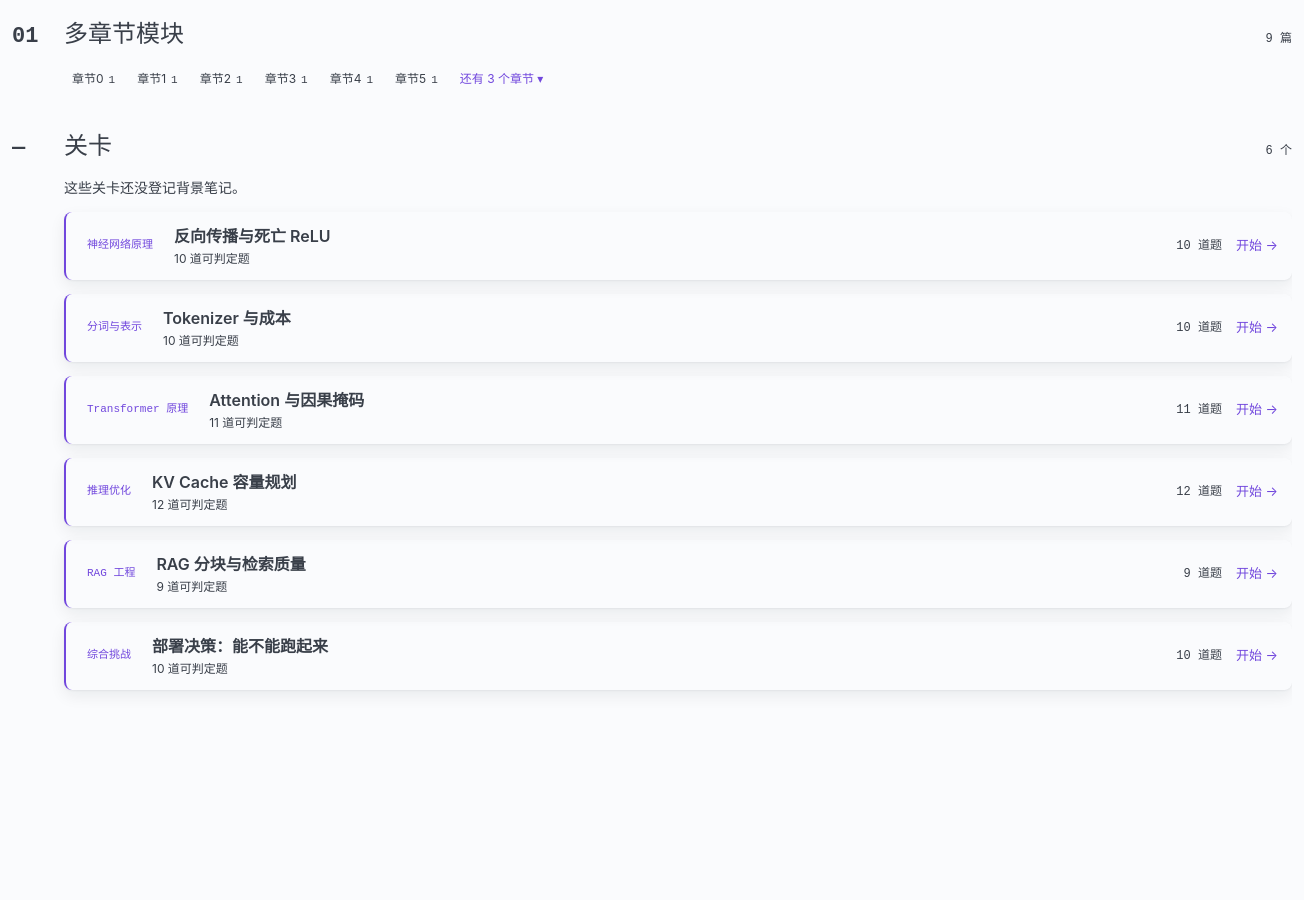
章节 chip 折叠 › 点开之后全部章节可见，按钮变成收起
What coordinates should you click on to do the following:
click the button "还有 3 个章节 ▾"
I would click on:
 (502, 79)
Its box is [452, 67, 551, 91].
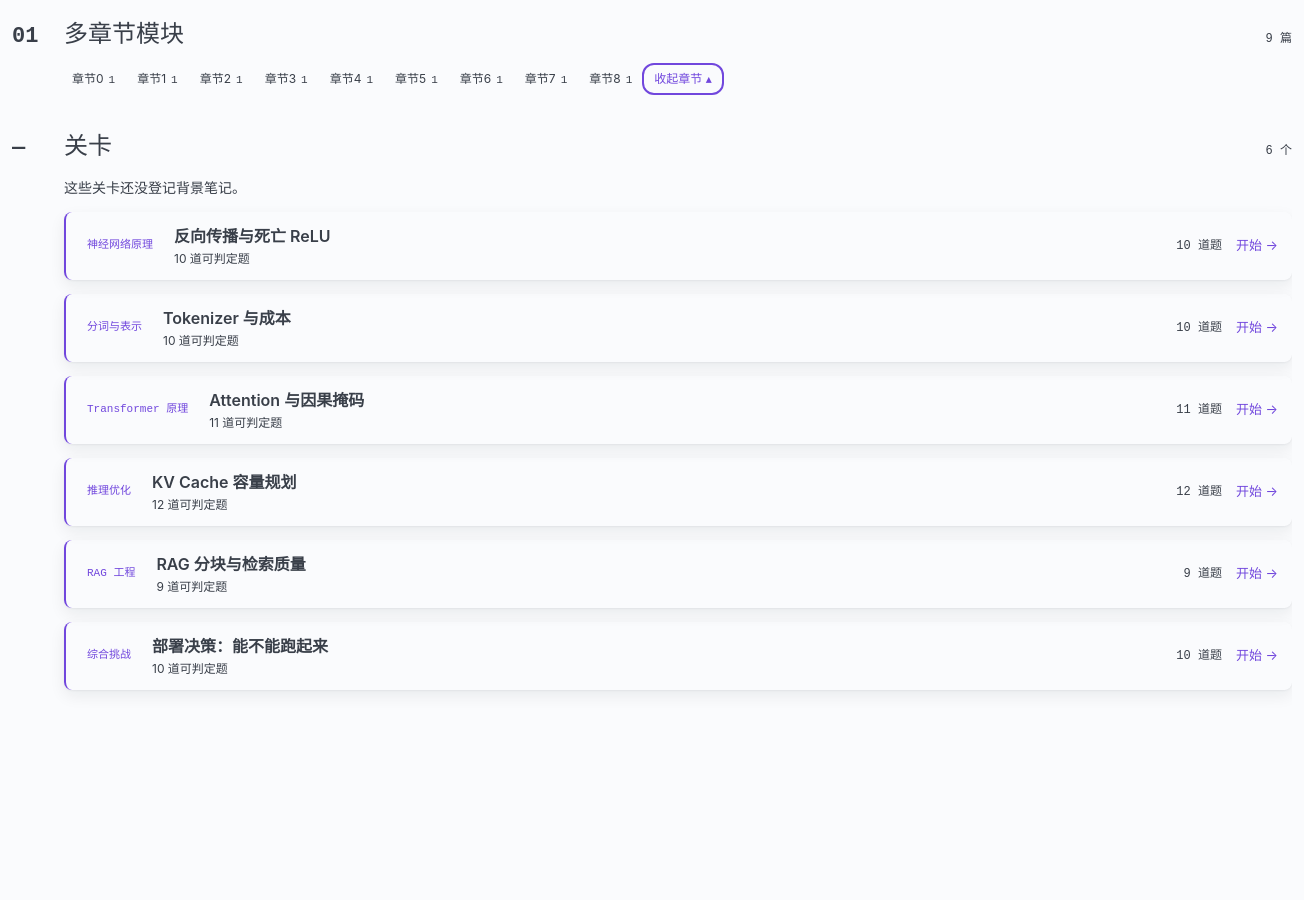
Now the number of elements with class "chip-label" is 9
Now the button "收起章节 ▴" is shown, box [646, 67, 720, 91]
